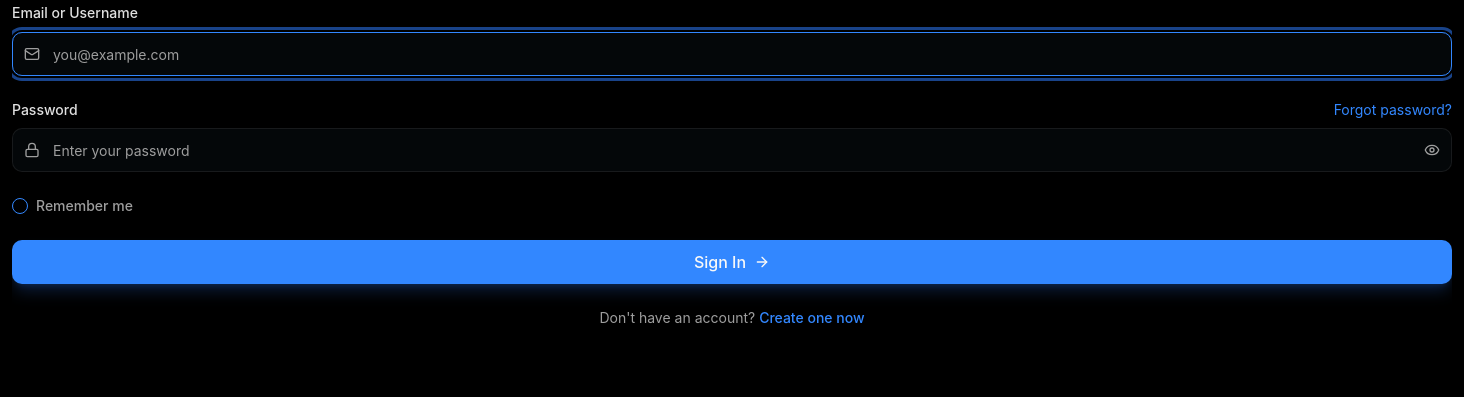
Scenario: LoginForm › Form Validation › should clear field errors when typing
Step 1. Click the button "Sign In" → [732, 262], box 12,240 -> 1452,284
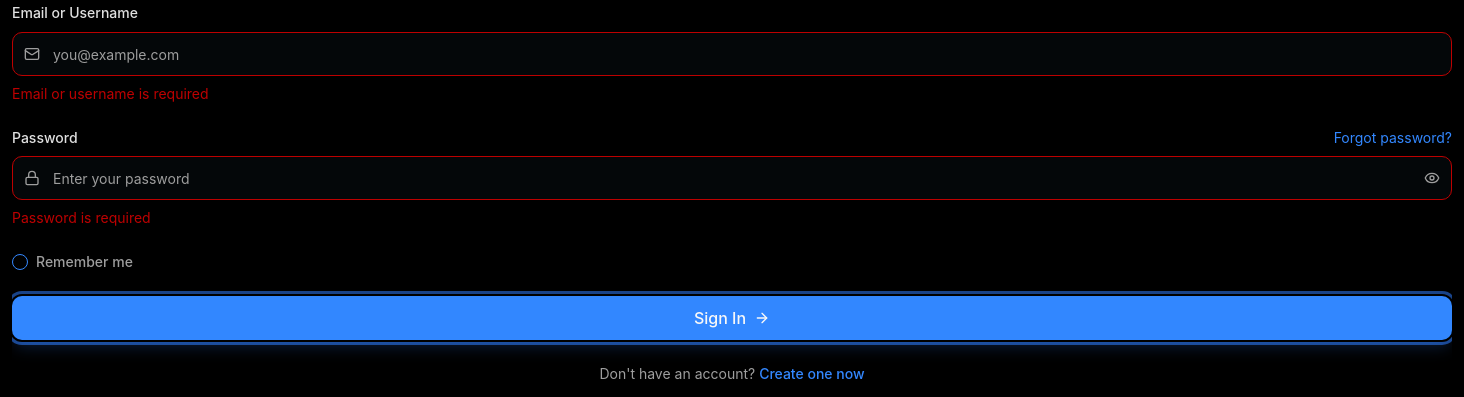
Result: the text "Email or username is required" is shown at 12,85 -> 209,102
Step 2. Type "t" into the field labelled "Email or Username" → [732, 54], box 12,32 -> 1452,76
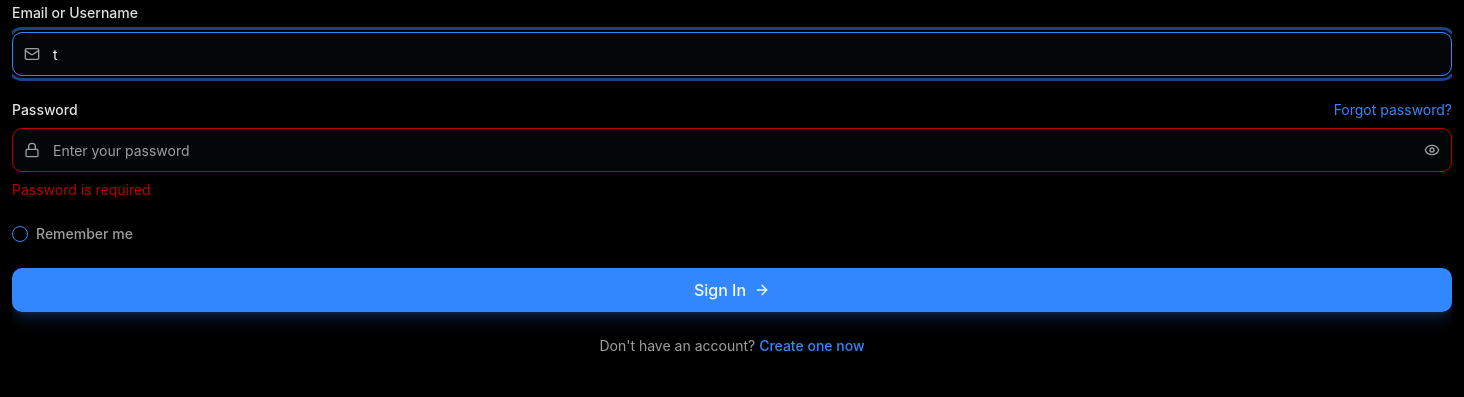
Result: the text "Email or username is required" is gone
